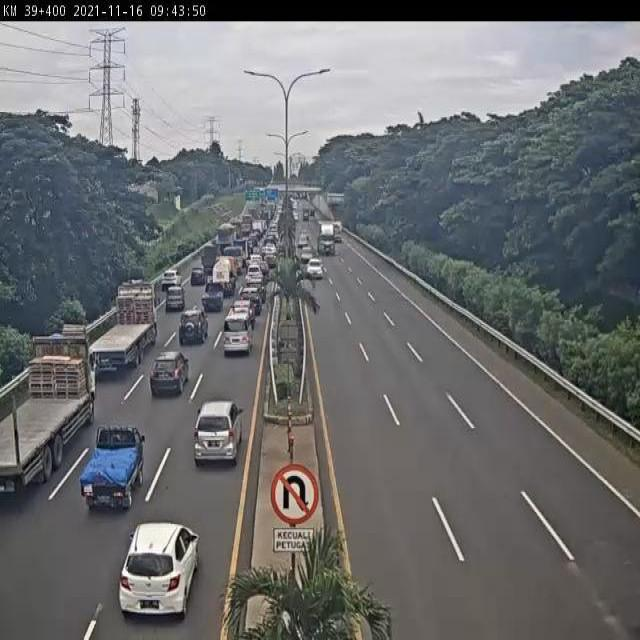car: (120, 522, 200, 622), (82, 425, 145, 511), (194, 402, 243, 466), (149, 352, 189, 401), (223, 314, 253, 354), (179, 310, 209, 346), (202, 280, 226, 313), (230, 300, 254, 333), (240, 287, 262, 313), (165, 288, 185, 312), (161, 271, 182, 292), (248, 277, 268, 299), (189, 265, 206, 287), (246, 265, 264, 284), (307, 259, 322, 277), (301, 246, 313, 262), (248, 254, 264, 266), (299, 233, 308, 250)
small truck: (200, 242, 221, 270), (224, 246, 243, 274)
truck-l-: (0, 335, 96, 484), (90, 284, 157, 368), (317, 223, 335, 256)
truck-m-: (212, 258, 235, 298), (217, 223, 237, 253)
